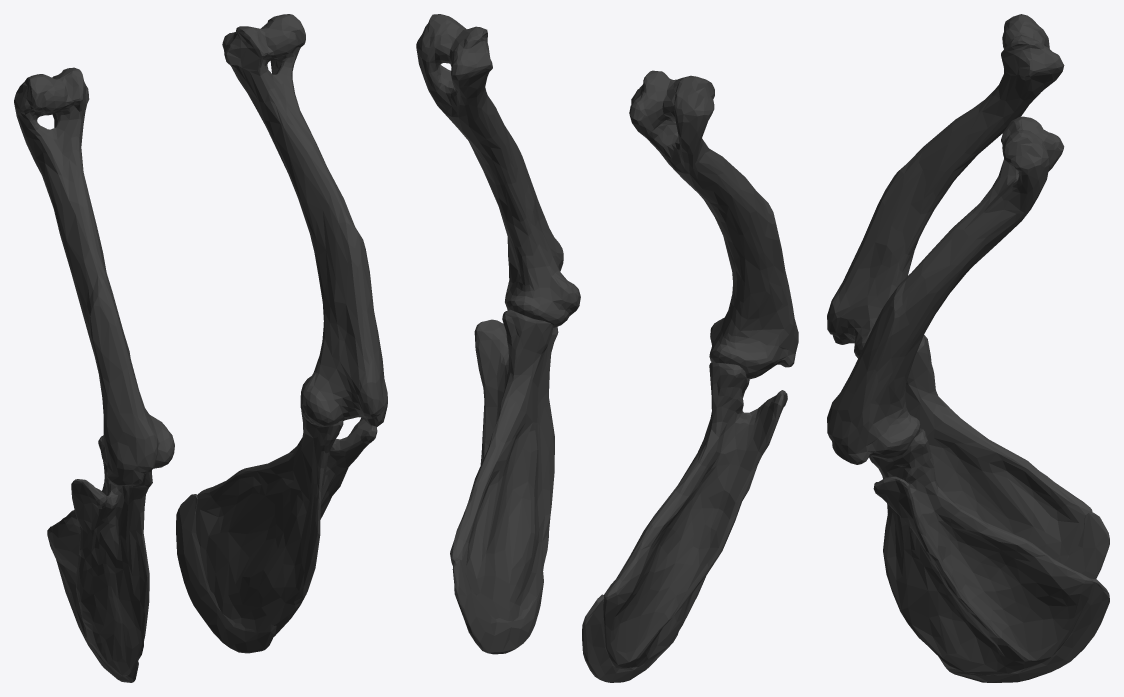
Rendered from b_scapula_humerus.glb.
3 views of the same model, side by side, from view 1: azimuth 30°, elevation 25°; view 2: azimuth 150°, elevation 25°; view 3: azimuth 270°, elevation 25° (orthographic). The views are drawn at different scales.
Visible parts, largest first — view 1: b_scapula_humerus; view 2: b_scapula_humerus; view 3: b_scapula_humerus.
Part boxes in pixels (x1,y1,x2,y2): b_scapula_humerus: (14, 14, 387, 682); b_scapula_humerus: (416, 14, 798, 682); b_scapula_humerus: (827, 14, 1109, 682).
Size of the model in its own units: 0.0448 by 0.0868 by 0.0383.
Materials: 1 (1 with a texture image).
